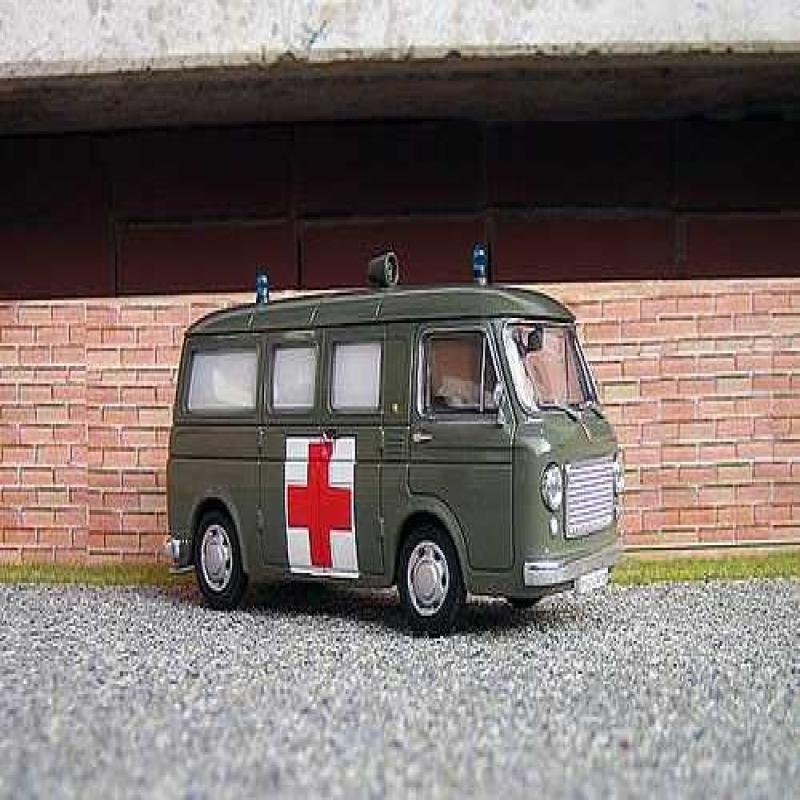AmbulanceSiren: (468, 244, 502, 314), (256, 271, 281, 308)
